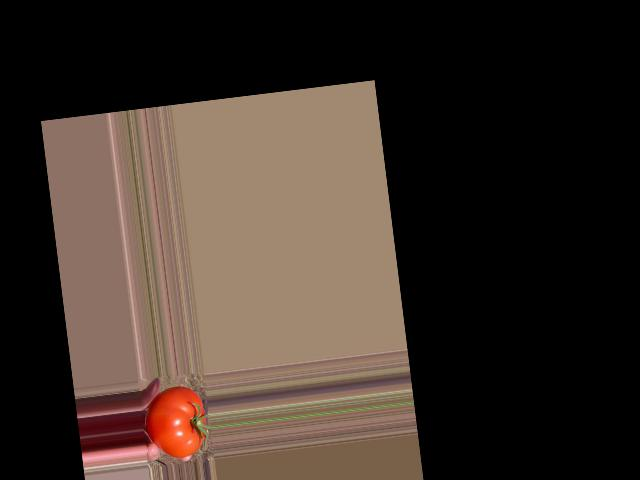tomato: (141, 384, 209, 461)
